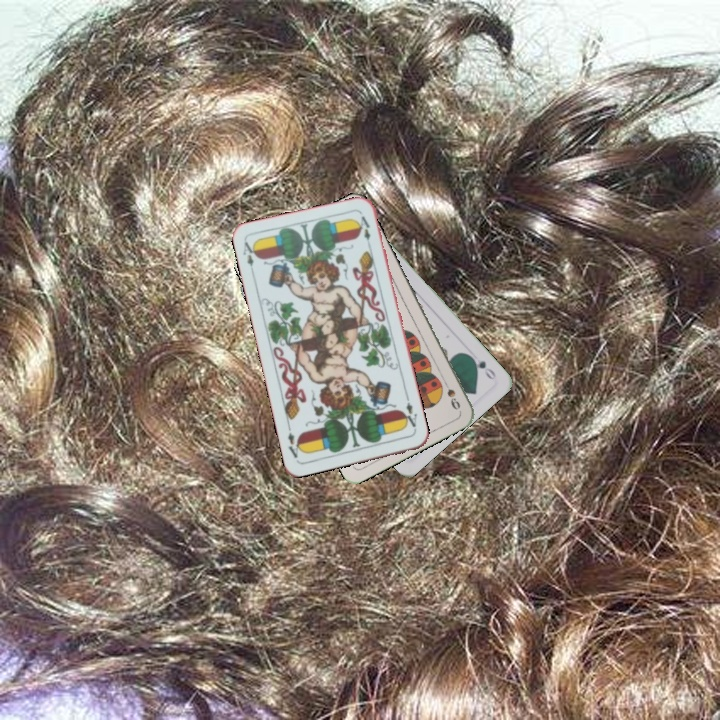EA: (399, 393, 420, 434), (238, 238, 260, 277)
GO: (465, 351, 499, 382)
S9: (439, 375, 463, 413)
